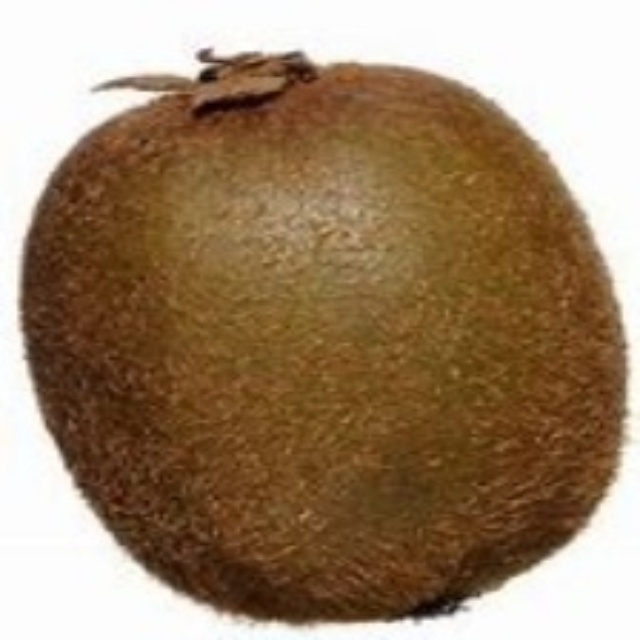kiwi: (23, 45, 631, 626)
